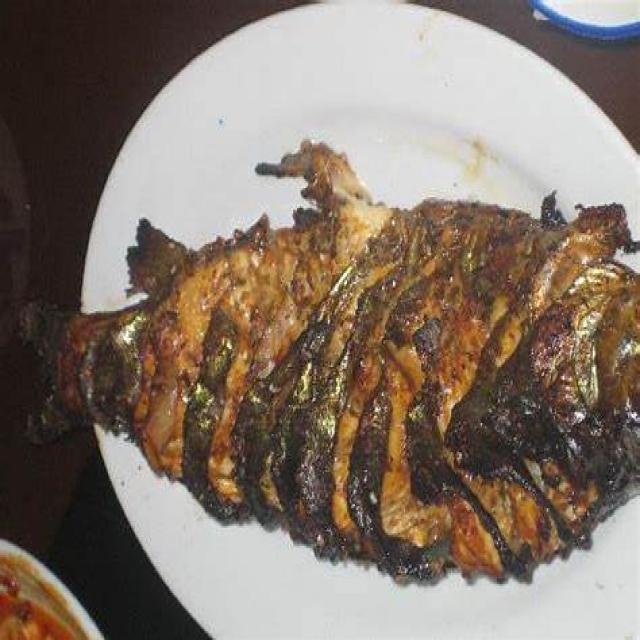Ikan Bakar: (67, 114, 640, 578)
